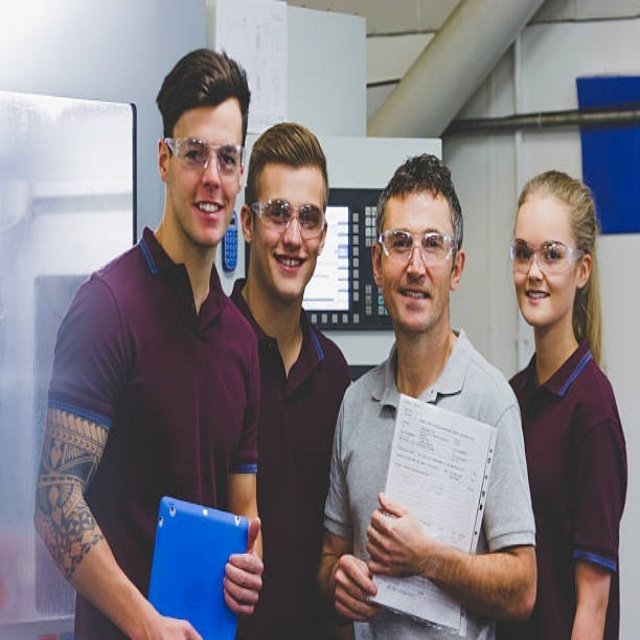Gafas: (166, 137, 246, 179), (250, 200, 327, 239), (378, 228, 457, 264), (509, 240, 584, 273)
Sin_guantes: (363, 494, 431, 581), (222, 516, 265, 616), (332, 552, 381, 624)
Sin_mascara: (272, 252, 307, 273), (191, 199, 225, 220), (396, 286, 431, 303), (524, 288, 549, 302)
